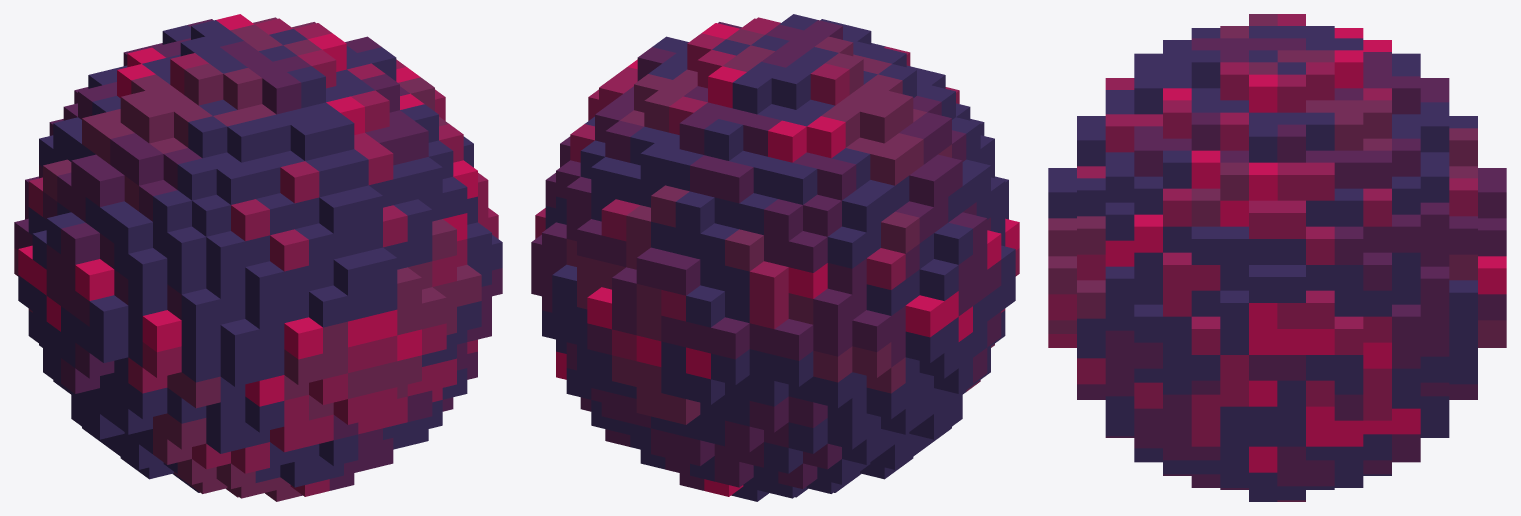
Rendered from planetas-16-roxorosa.obj.
3 views of the same model, side by side, from view 1: azimuth 30°, elevation 25°; view 2: azimuth 150°, elevation 25°; view 3: azimuth 270°, elevation 25° (orthographic).
Size of the model in its own units: 1.6 by 1.6 by 1.6.
1 material, 1 textured.
